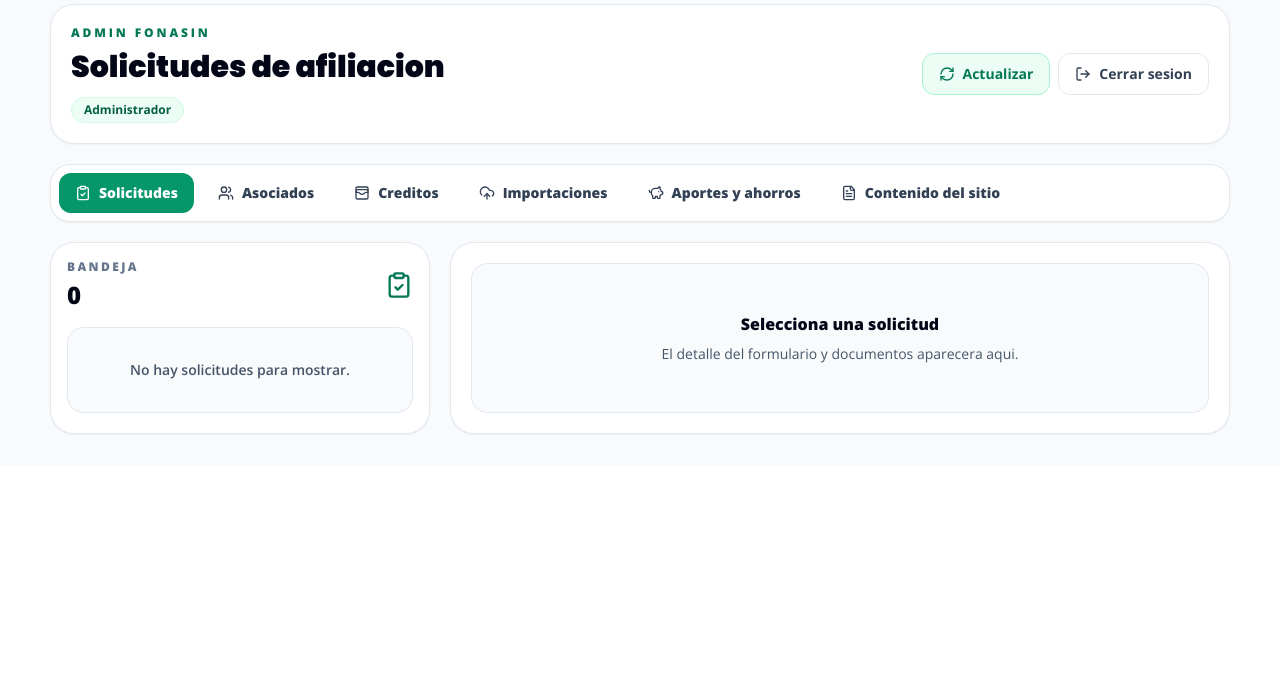
Test: AppRoutes › shows operational upload forms inside the imports view
Step 1. Click the button "Importaciones" → [543, 193], box [463,173,624,213]
(page scrolled)
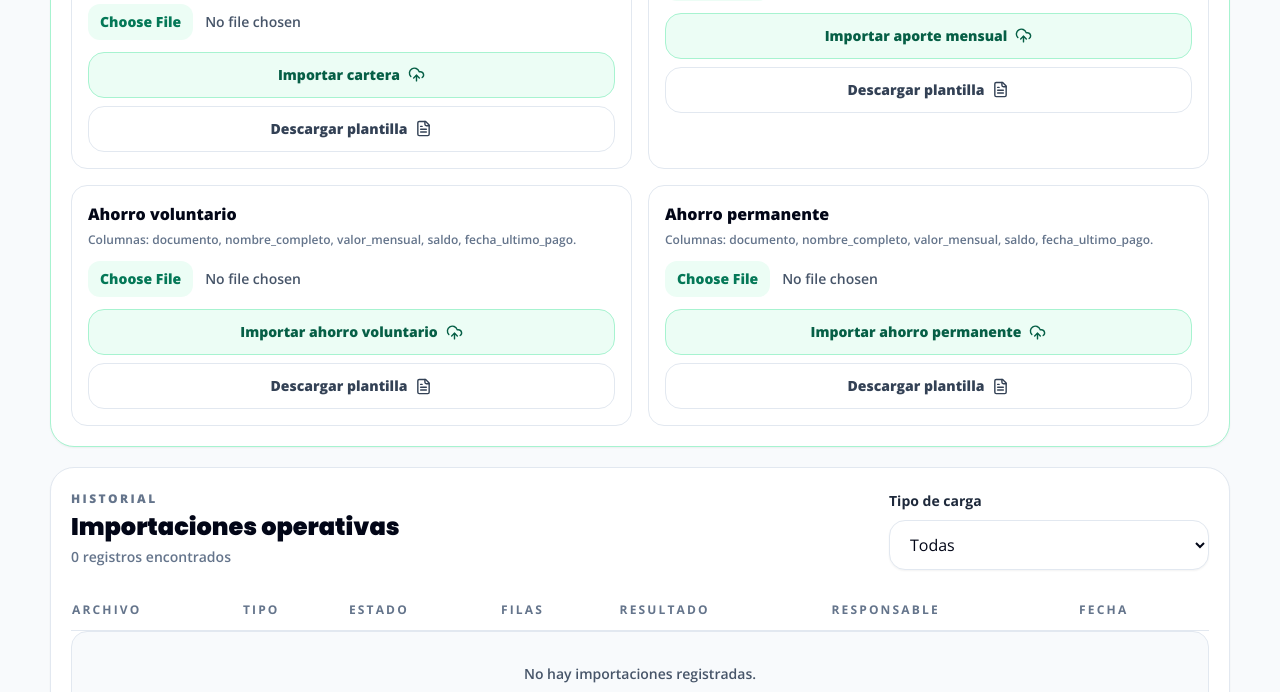
Now the file field named "archivo ahorro voluntario" is shown, box [88,261,615,297]
Now the button "Importar ahorro voluntario" is shown, box [88,309,615,355]
